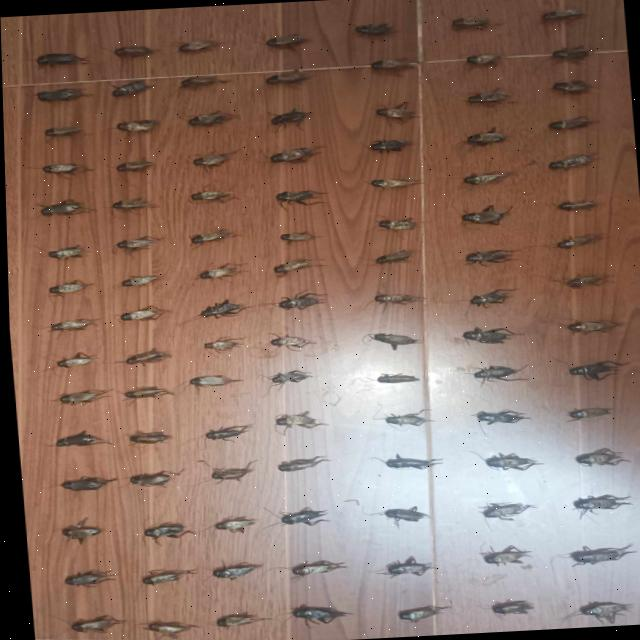egg: (562, 601, 627, 623), (565, 543, 633, 564), (569, 493, 627, 514), (374, 555, 430, 576), (566, 360, 624, 380), (288, 604, 346, 623), (140, 522, 190, 544), (66, 614, 121, 632), (477, 502, 532, 520), (482, 452, 540, 469), (460, 326, 517, 343), (471, 365, 524, 383), (367, 332, 420, 350), (287, 559, 343, 576), (573, 447, 625, 465), (477, 545, 526, 564), (276, 290, 324, 309), (460, 205, 507, 224), (394, 605, 446, 622), (269, 145, 321, 162), (273, 410, 325, 427), (377, 506, 426, 524), (53, 430, 108, 446), (61, 569, 112, 586), (39, 199, 93, 215), (277, 507, 325, 525), (463, 126, 506, 146), (59, 517, 98, 539), (381, 453, 438, 468), (209, 561, 259, 578), (140, 621, 193, 637), (138, 568, 191, 584), (349, 372, 419, 384), (472, 409, 528, 424), (198, 299, 244, 317), (272, 257, 322, 273), (275, 455, 325, 471), (57, 476, 114, 490), (563, 319, 619, 333), (274, 189, 323, 205), (208, 462, 251, 480), (55, 389, 106, 404), (468, 288, 510, 306), (202, 423, 249, 439), (463, 249, 513, 264), (121, 348, 167, 364), (268, 334, 314, 350), (189, 228, 237, 243), (128, 470, 176, 485), (547, 154, 593, 169), (186, 374, 239, 387), (266, 369, 309, 385), (118, 306, 167, 320), (36, 88, 88, 101), (212, 613, 260, 627), (211, 516, 253, 532), (36, 53, 87, 66), (179, 75, 230, 88), (555, 233, 599, 248), (187, 111, 231, 126), (197, 263, 240, 278), (382, 410, 425, 425), (114, 235, 160, 249), (55, 351, 95, 367), (487, 599, 529, 614), (265, 34, 307, 49), (111, 80, 150, 96), (265, 70, 309, 84), (47, 280, 90, 294), (551, 45, 594, 59), (462, 171, 508, 184), (191, 152, 233, 166), (270, 109, 309, 124), (562, 274, 603, 288), (122, 386, 169, 398), (115, 118, 158, 131), (368, 139, 414, 151), (33, 163, 88, 173), (548, 117, 590, 130), (374, 249, 413, 263), (372, 293, 421, 304), (47, 244, 85, 258), (552, 80, 590, 94), (368, 178, 421, 188), (49, 318, 93, 330), (465, 90, 509, 102), (370, 58, 418, 69), (565, 407, 608, 419), (190, 190, 233, 202), (376, 217, 415, 230), (110, 198, 156, 209), (126, 431, 168, 443), (112, 45, 154, 57), (202, 338, 240, 351), (541, 8, 582, 20), (451, 17, 490, 29), (177, 39, 216, 51), (115, 159, 153, 171), (354, 23, 393, 34), (118, 275, 156, 286), (465, 53, 499, 65), (555, 200, 594, 210), (376, 107, 414, 117), (43, 126, 80, 136), (278, 231, 315, 241), (371, 179, 391, 187), (479, 294, 487, 302)
